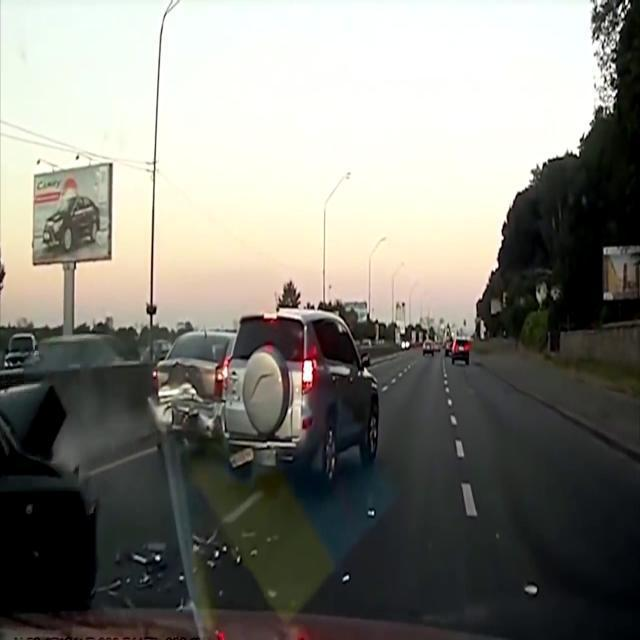accident: (148, 308, 382, 484)
